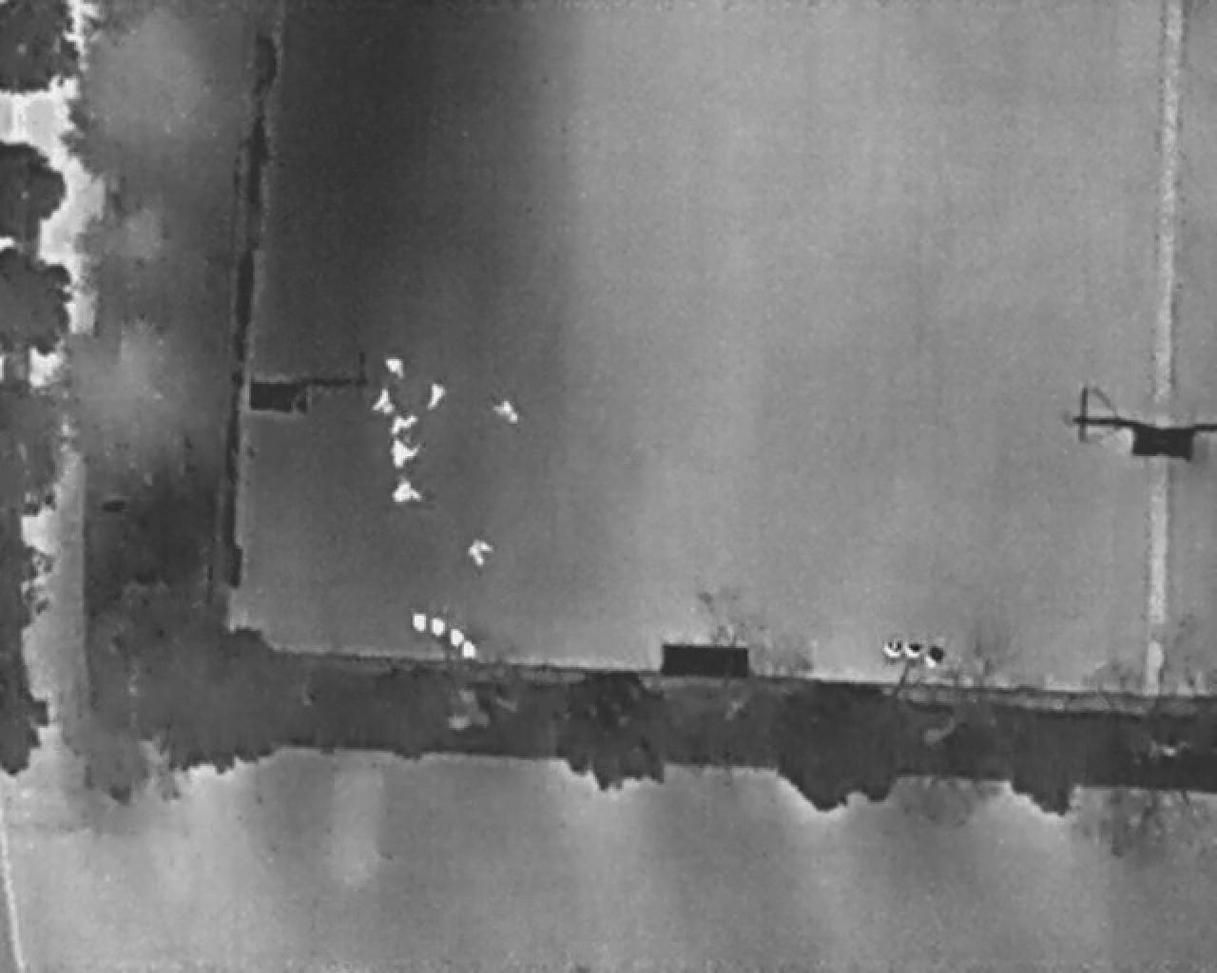person: (480, 392, 539, 453), (383, 406, 423, 442), (389, 436, 423, 472), (389, 478, 425, 508), (421, 379, 450, 413), (467, 539, 495, 571), (383, 353, 408, 383), (372, 387, 398, 415)
